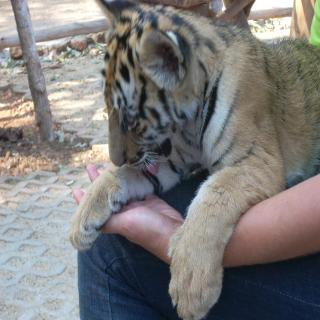Tiger: (67, 0, 320, 320)
